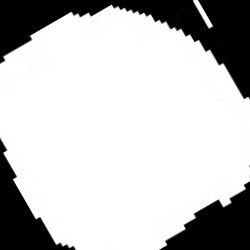spot: (0, 4, 248, 248)
